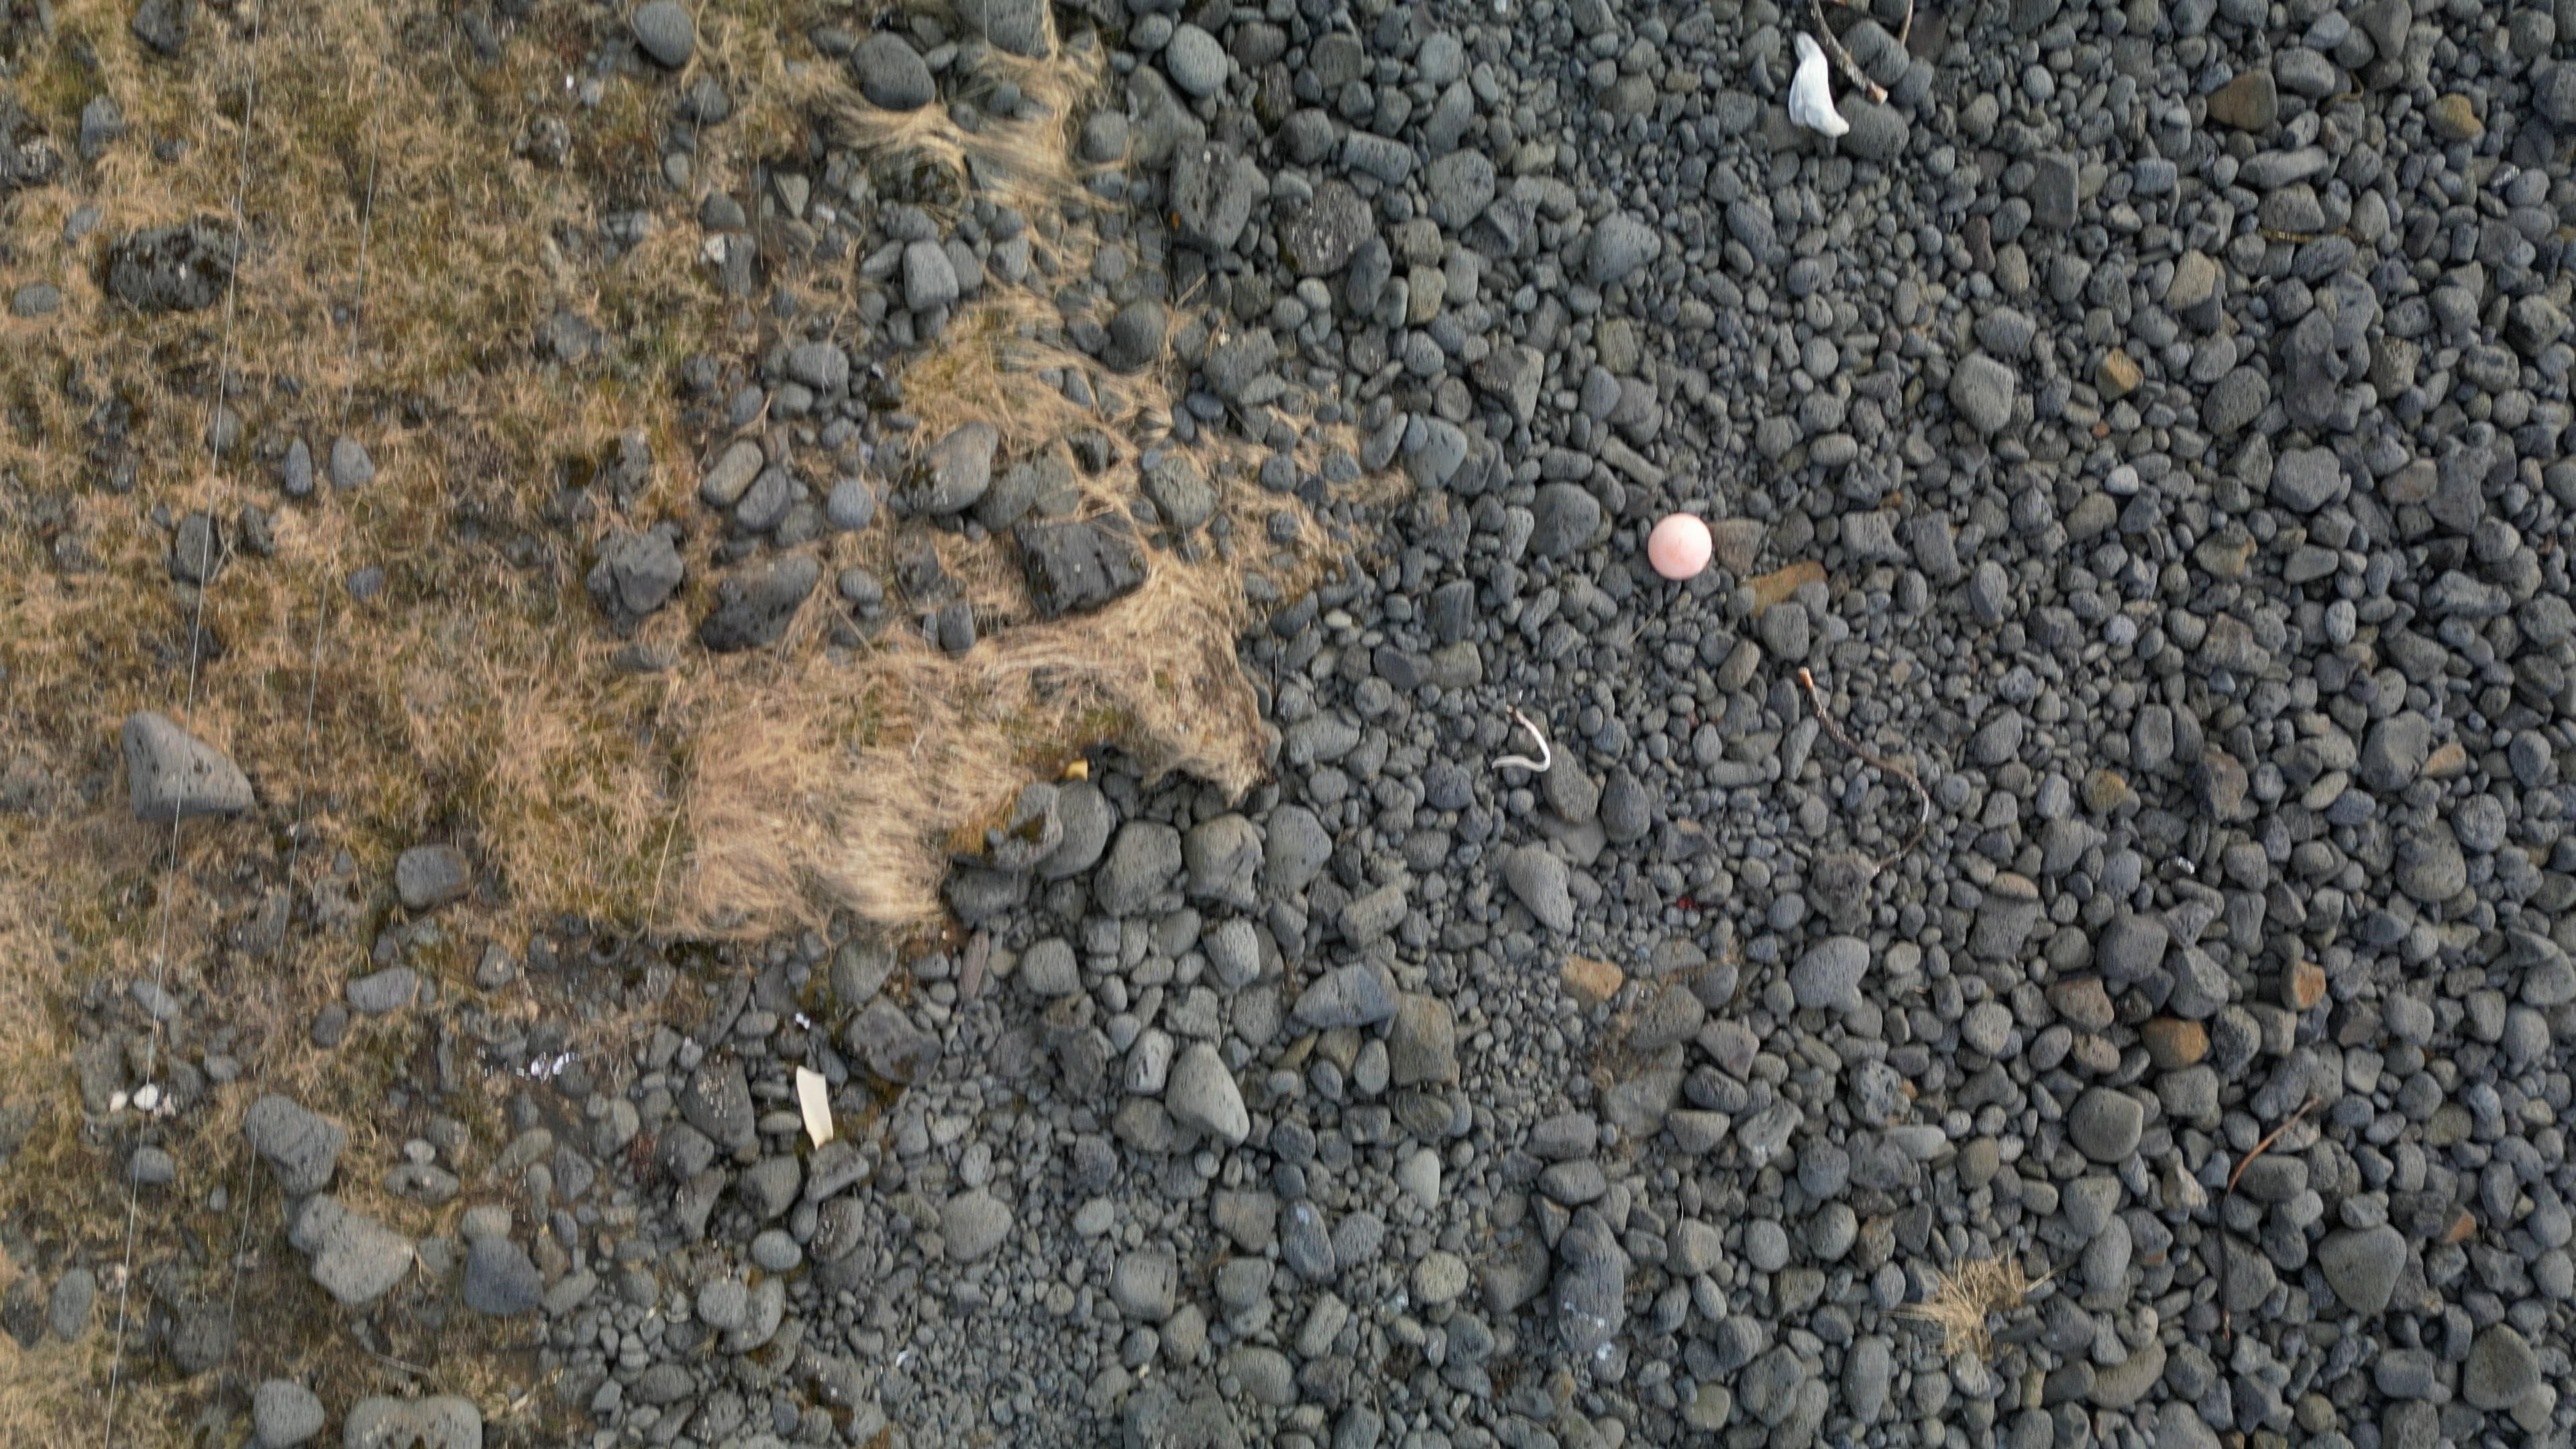trash: (1787, 35, 1847, 136), (1645, 513, 1711, 579), (794, 1067, 835, 1146)
